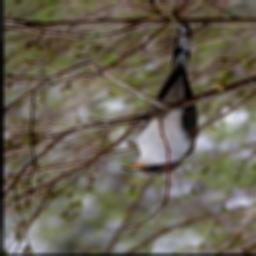Cuckoo: (120, 25, 201, 178)
